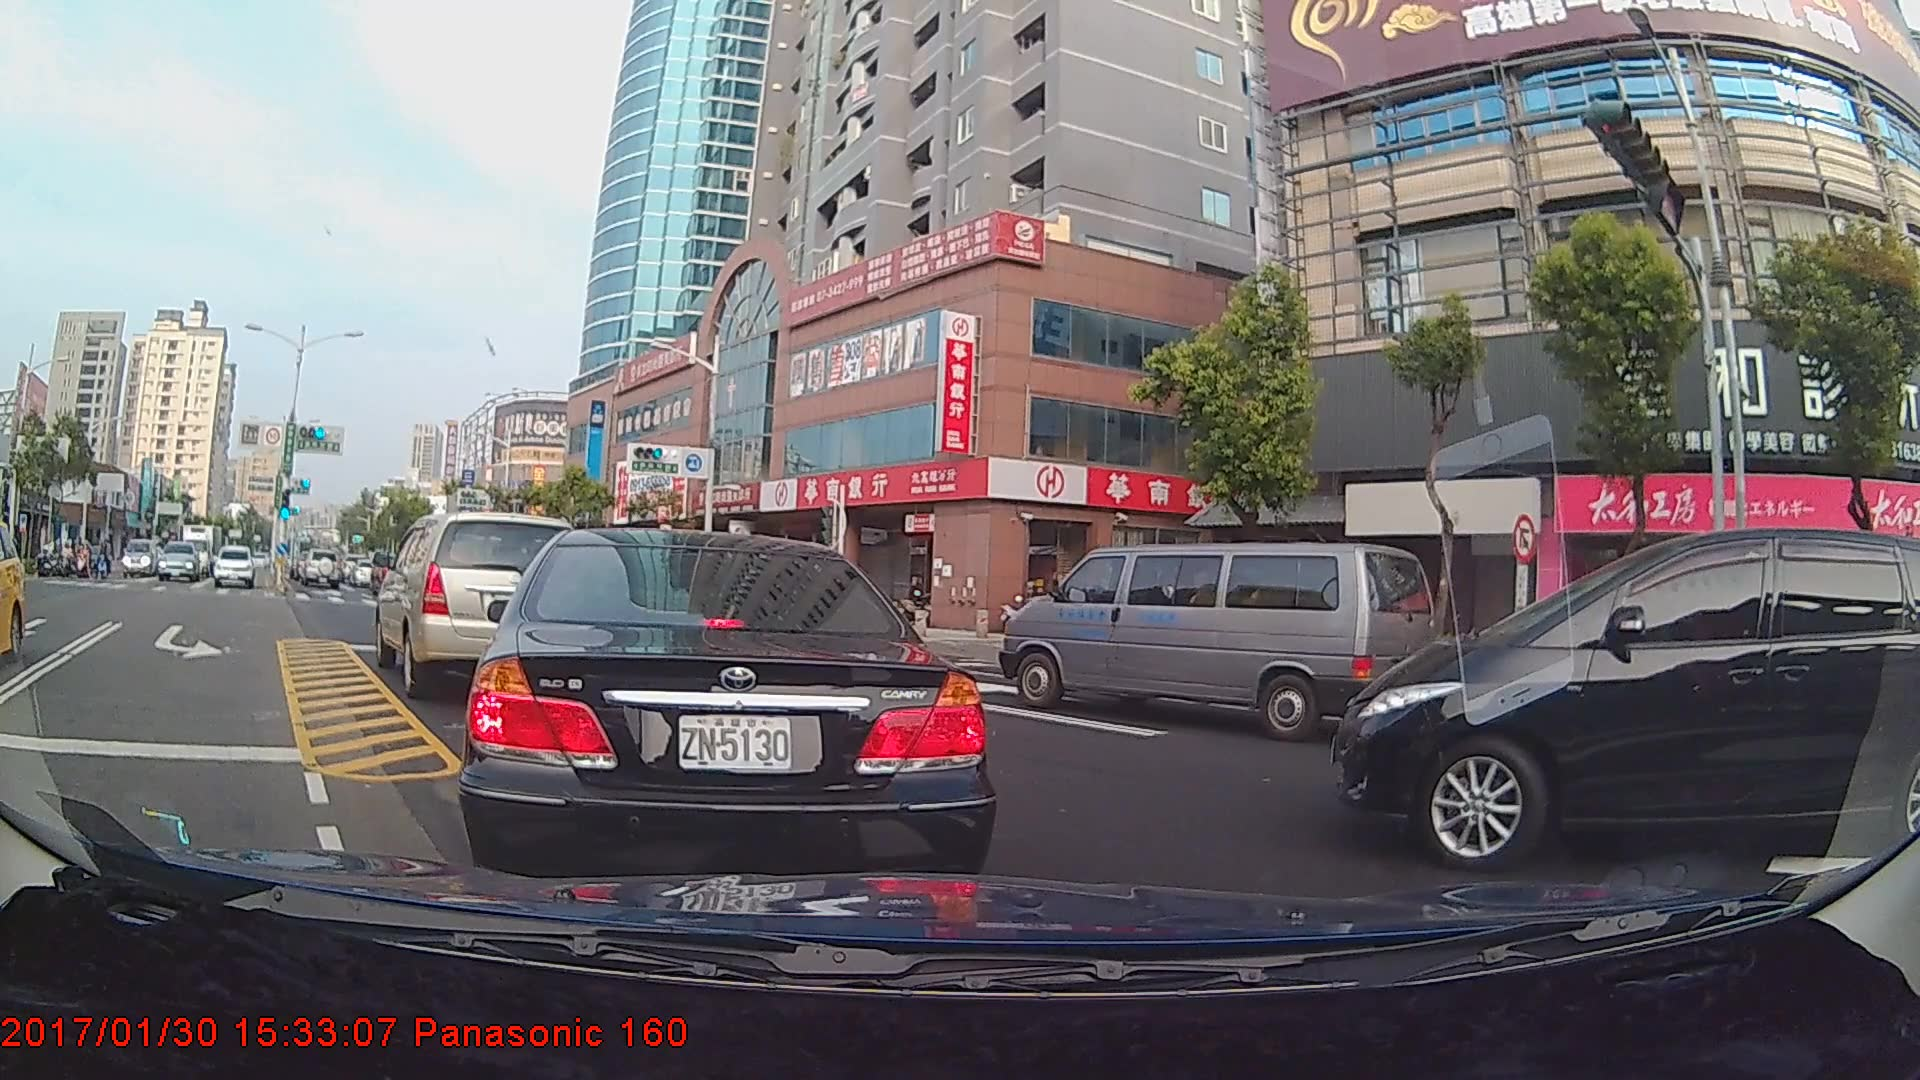vehicle: (1332, 530, 1907, 891), (462, 524, 980, 890), (1009, 541, 1473, 738), (375, 510, 572, 684), (0, 524, 26, 655), (173, 521, 229, 572), (297, 546, 349, 589), (156, 541, 200, 583), (212, 545, 255, 589), (123, 539, 167, 578)
